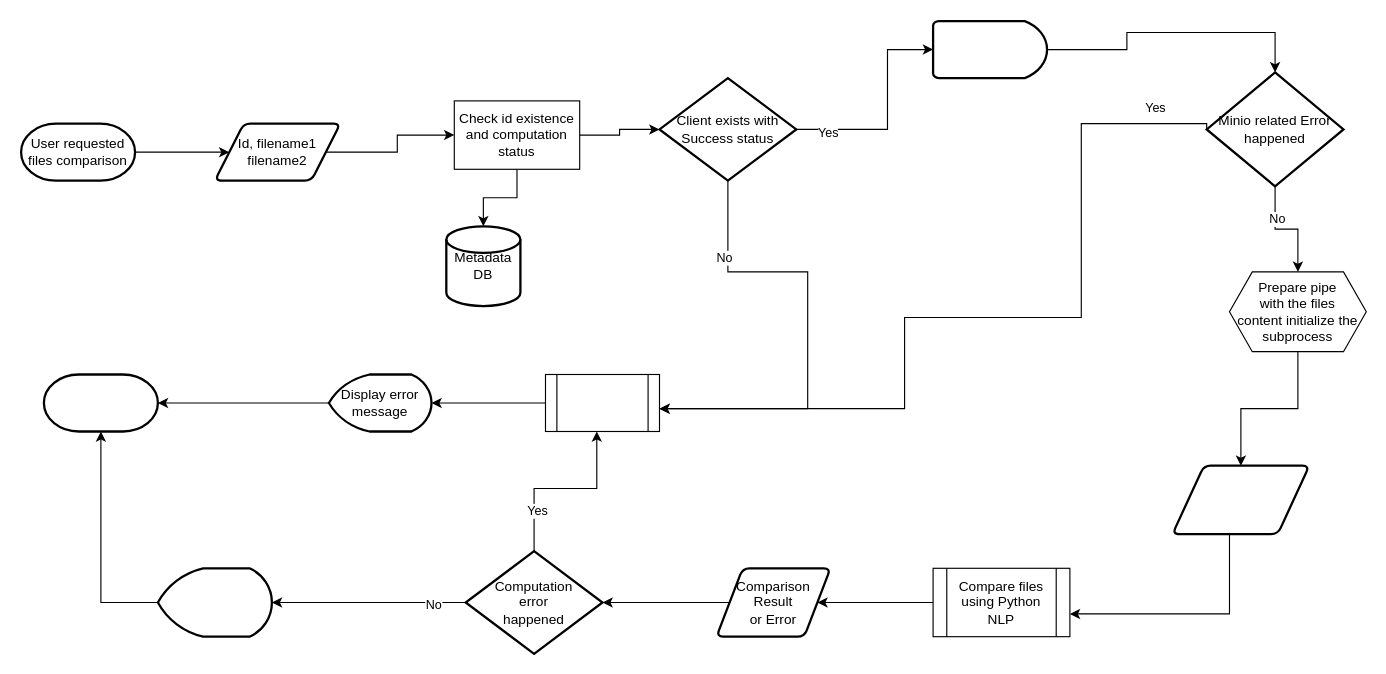
This 1386x674 diagram has some shape labels left out. Each missing label, with the centre of its shape:
Display texts difference: pixel 214 602
Download files from Minio: pixel 989 49
End: pixel 100 402
Files content, comparison options: pixel 1240 499
Process Error: pixel 601 402
